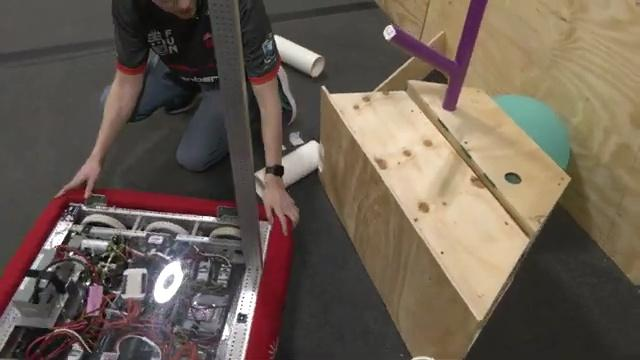CORAL: (251, 139, 322, 194), (272, 33, 325, 78)
